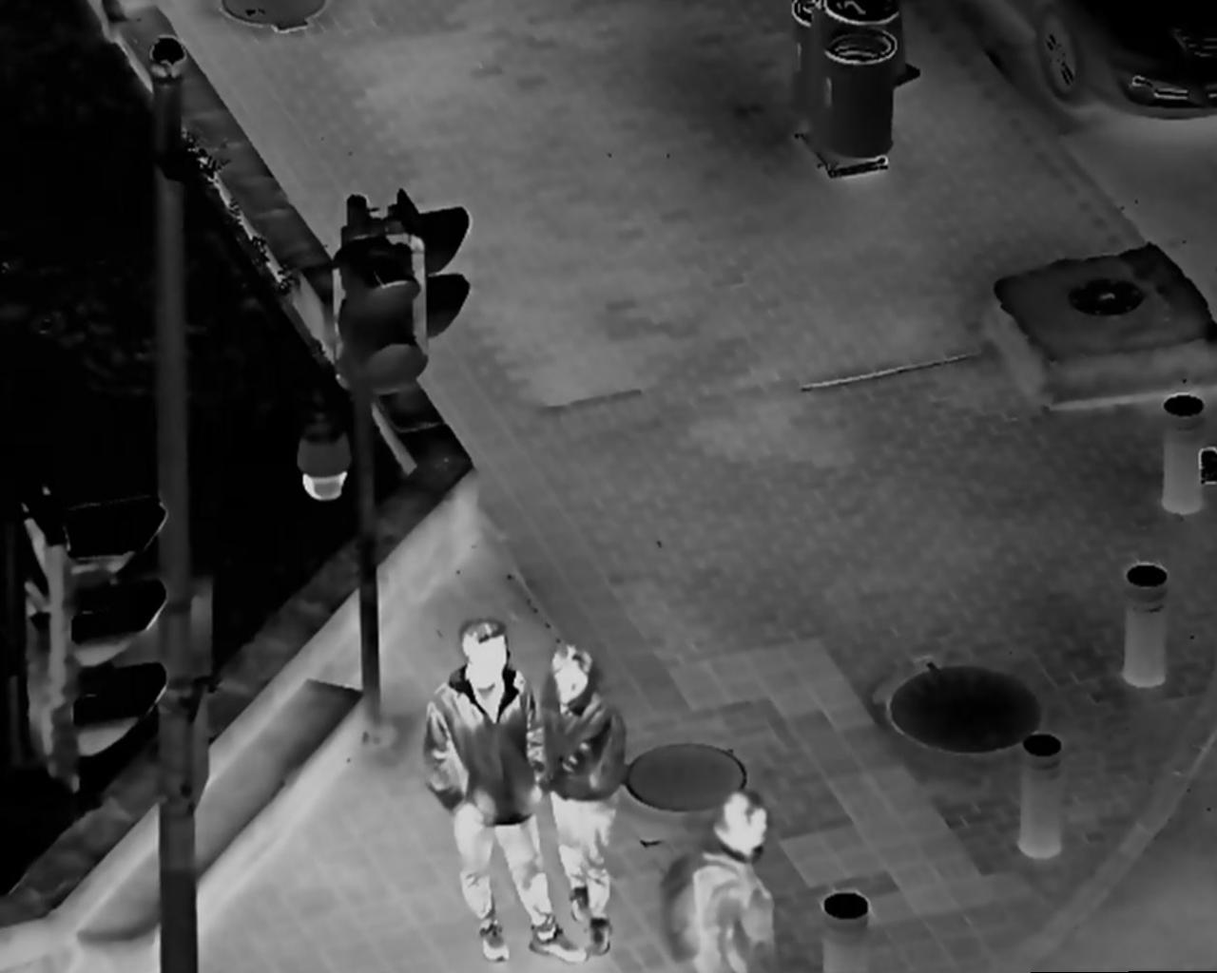person: (417, 612, 589, 964), (524, 639, 625, 962), (650, 782, 785, 973)
